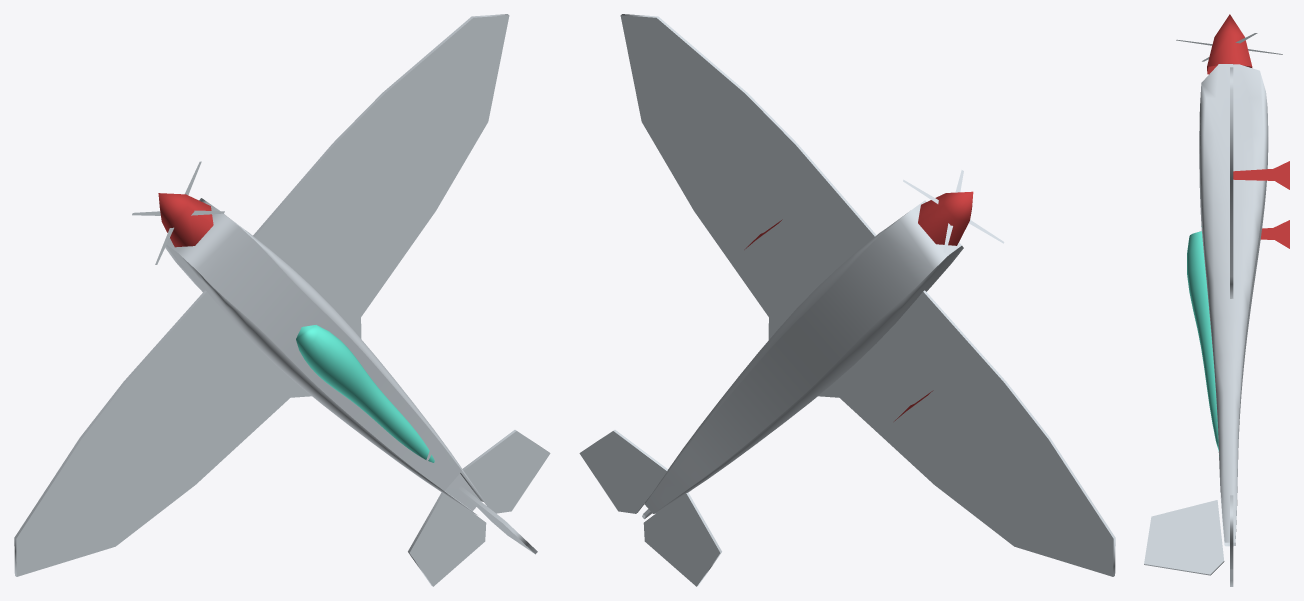
Rendered from spitfire.obj.
The picture shows the model from 3 angles, left to right: view 1: azimuth 30°, elevation 25°; view 2: azimuth 150°, elevation 25°; view 3: azimuth 270°, elevation 25°; orthographic projection. The views are drawn at different scales.
Size of the model in its own units: 710 by 710 by 174.
